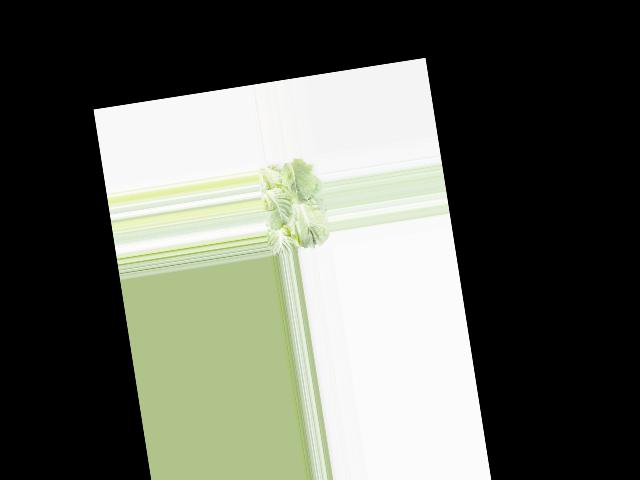lettuce: (255, 157, 330, 254)
